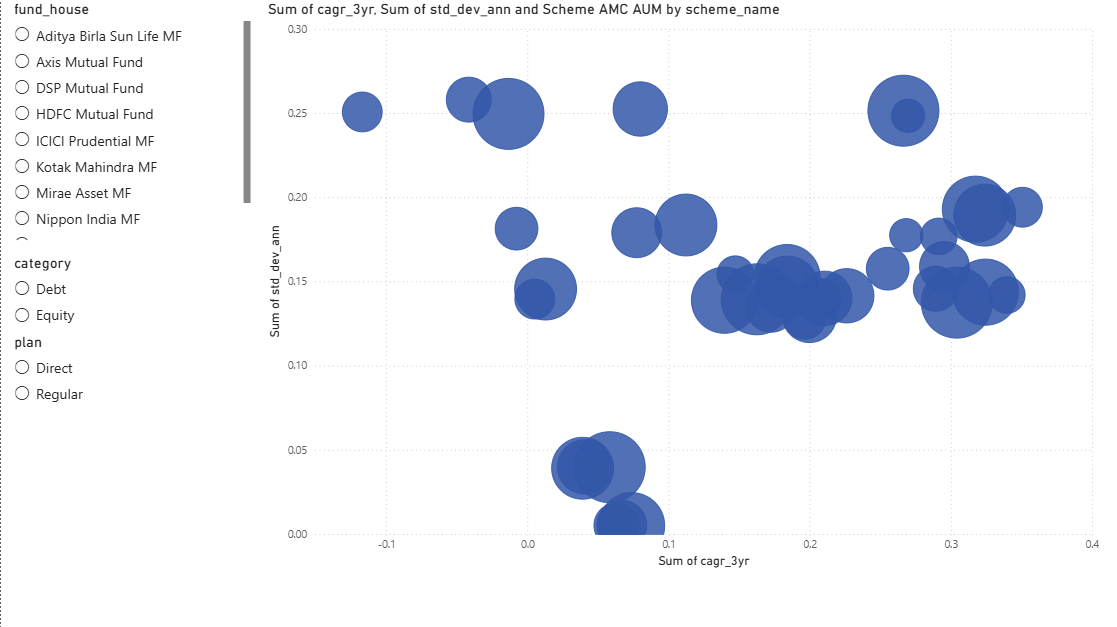

This screenshot's page, from the dashboard's own definition file:
{"tool":"powerbi","page":{"name":"Page 2","canvas":[1280,720],"ordinal":1},"visuals":[{"type":"listSlicer","fields":{"Values":["clean_fund_master.fund_house"]},"box":[10,0,280,280],"z":0},{"type":"listSlicer","fields":{"Values":["clean_fund_master.category"]},"box":[9.6,289.5,279.9,90.6],"z":1},{"type":"listSlicer","fields":{"Values":["clean_fund_master.plan"]},"box":[9.6,380.1,279.9,93.3],"z":2},{"type":"scatterChart","fields":{"Category":["clean_fund_master.scheme_name"],"X":["Sum(fund_scorecard.cagr_3yr)"],"Y":["Sum(fund_scorecard.std_dev_ann)"],"Size":["clean_fund_master.Scheme AMC AUM"]},"box":[300,0,960,654.3],"z":3}]}

Visuals, with their boxes in screenshot pixels (x1, y1, x2, y2), scaled from the page's 1280x720 canvas onto the 1117x627 screenshot:
listSlicer - clean_fund_master.fund_house: rect(9, 0, 253, 244)
listSlicer - clean_fund_master.category: rect(8, 252, 253, 331)
listSlicer - clean_fund_master.plan: rect(8, 331, 253, 412)
scatterChart - clean_fund_master.scheme_name x Sum(fund_scorecard.cagr_3yr): rect(262, 0, 1100, 570)
